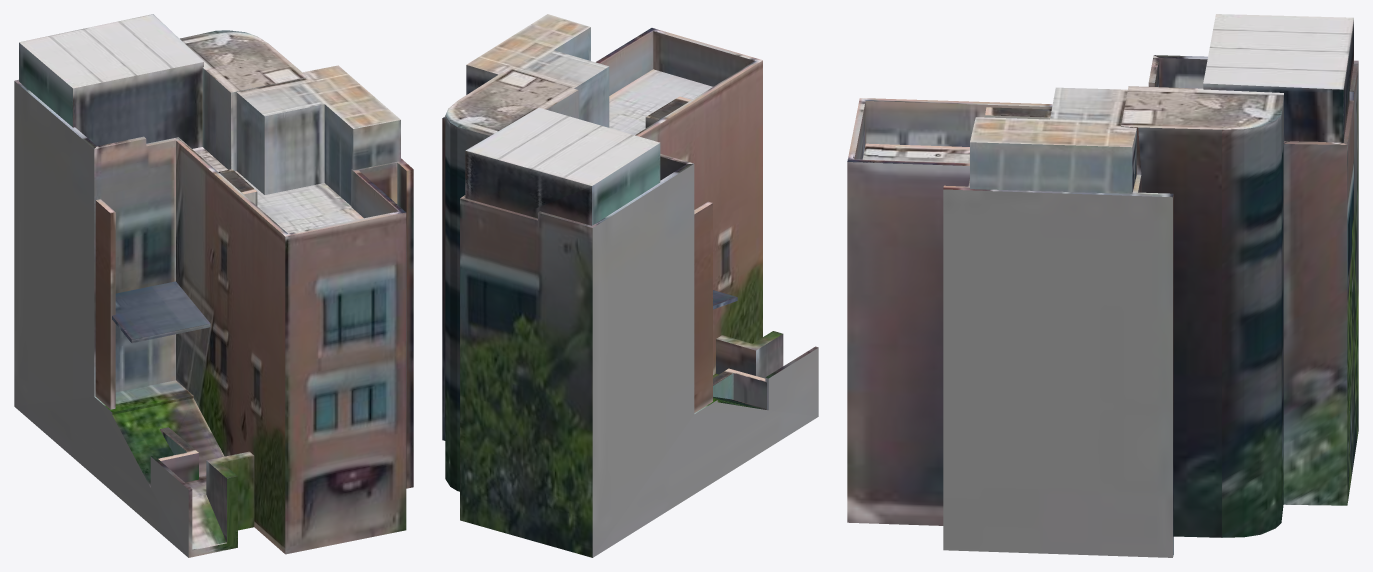
The picture shows the model from 3 angles, left to right: view 1: azimuth 30°, elevation 25°; view 2: azimuth 150°, elevation 25°; view 3: azimuth 270°, elevation 25°; orthographic projection. The views are drawn at different scales.
Parts seen in each view (by area): view 1: B280024041701063A0; view 2: B280024041701063A0; view 3: B280024041701063A0.
Part boxes in pixels (<box>): B280024041701063A0: <box>14,14,413,557</box>; B280024041701063A0: <box>442,14,818,557</box>; B280024041701063A0: <box>847,14,1358,557</box>.
Bounding box in the file's own units: 8.83 × 12.08 × 13.5.
1 material, 1 textured.
